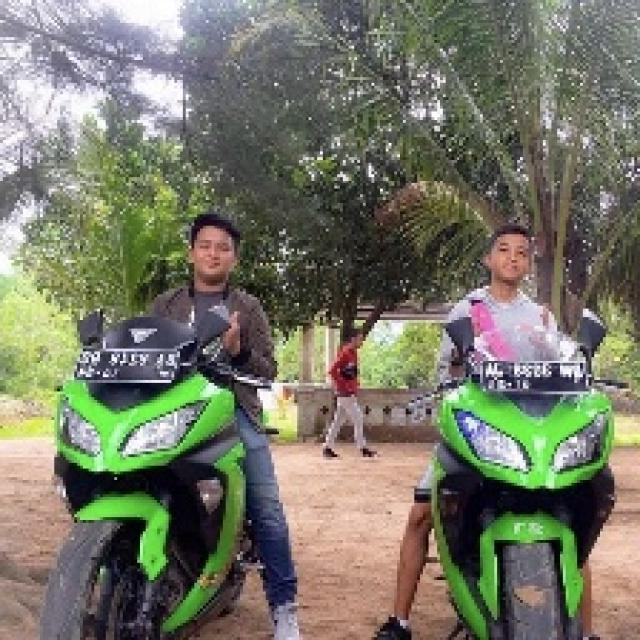motorcycle: (34, 330, 260, 634), (438, 330, 618, 639)
